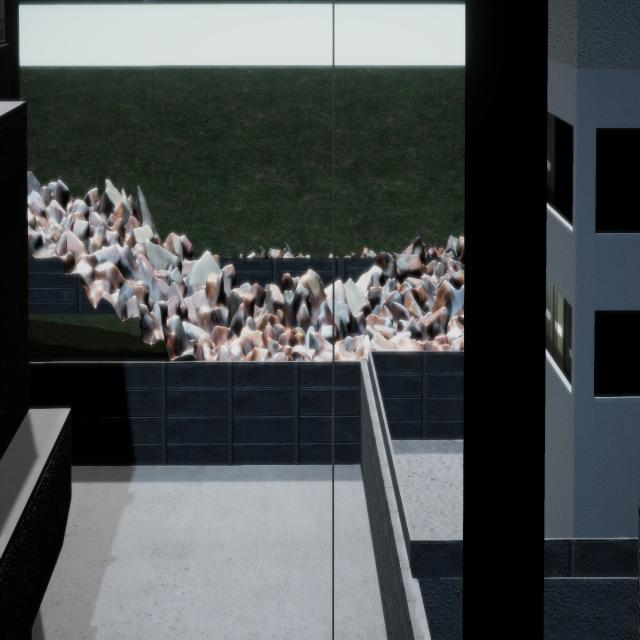Human: (282, 264, 326, 298)
